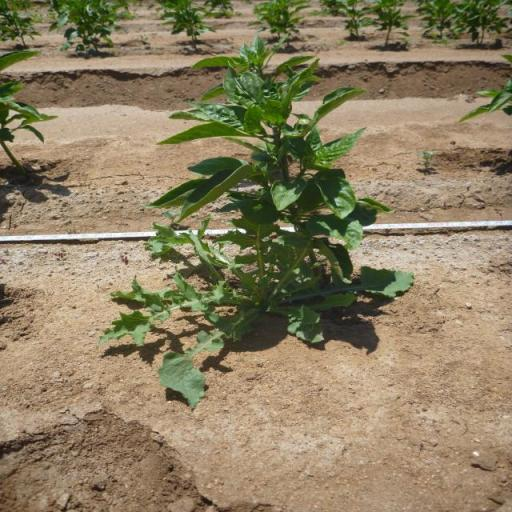plant: (144, 32, 399, 281), (0, 48, 51, 160), (55, 0, 124, 55), (450, 0, 512, 49), (156, 0, 211, 46), (248, 2, 306, 44), (369, 0, 413, 51), (0, 0, 46, 47), (413, 0, 461, 44), (336, 0, 373, 42), (206, 0, 241, 18)
weed: (89, 220, 427, 420), (417, 150, 441, 172), (161, 208, 180, 224)
